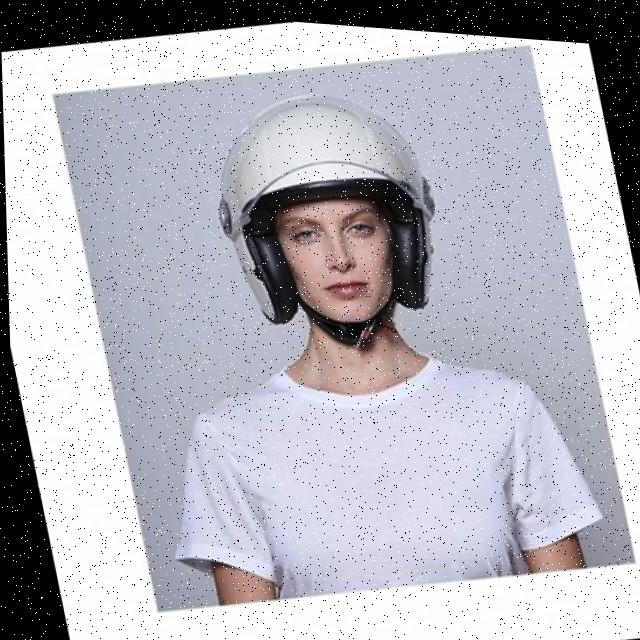helmet: (184, 57, 474, 382)
